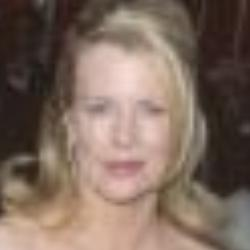face: (37, 7, 223, 221)
